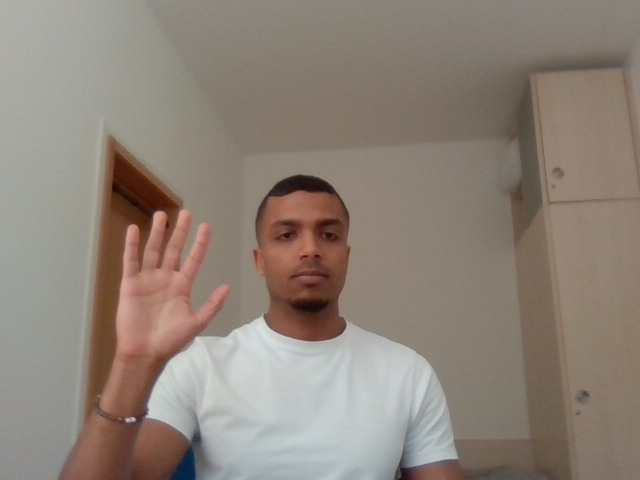hello: (113, 192, 240, 376)
